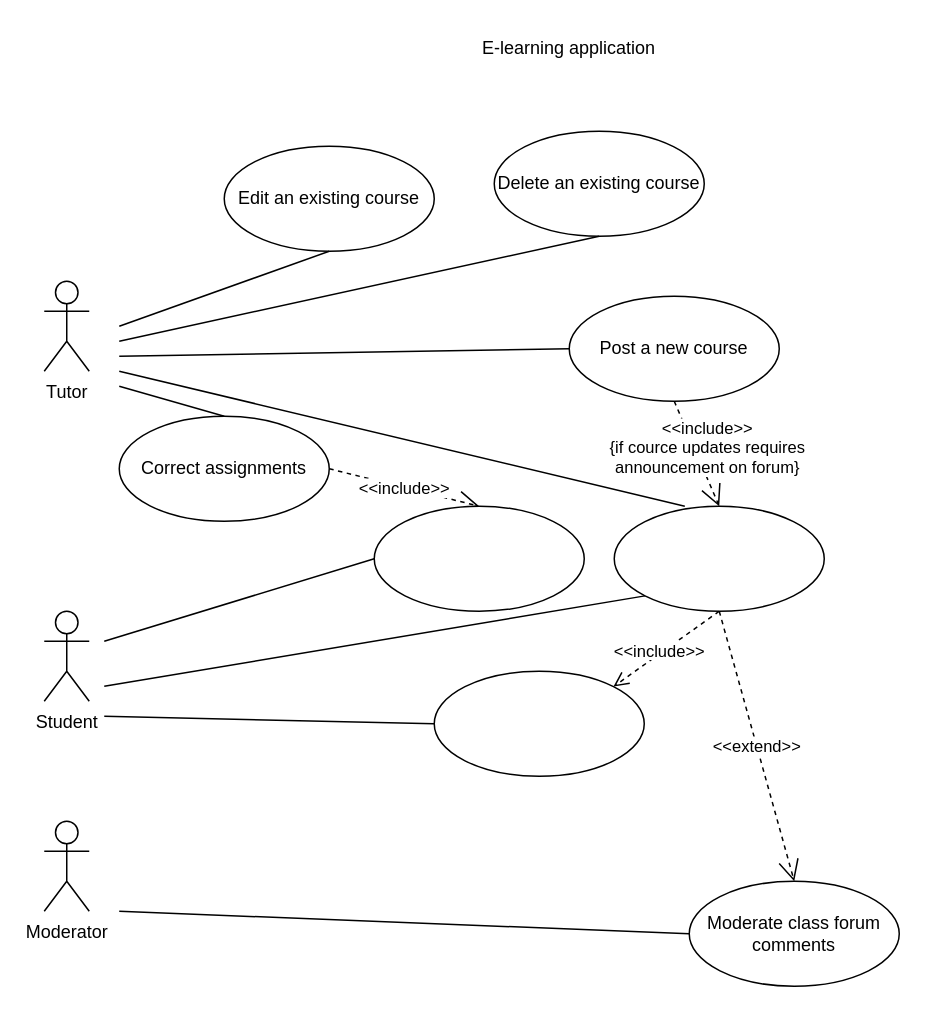
Image size: 926x1013. Some labels were removed from this diagram. The centre of each missing label's shape, as x and y in pixels:
Comment on the class forum post: point 538,723
Post on the class forum: point 718,558
Submit assignments: point 478,558
